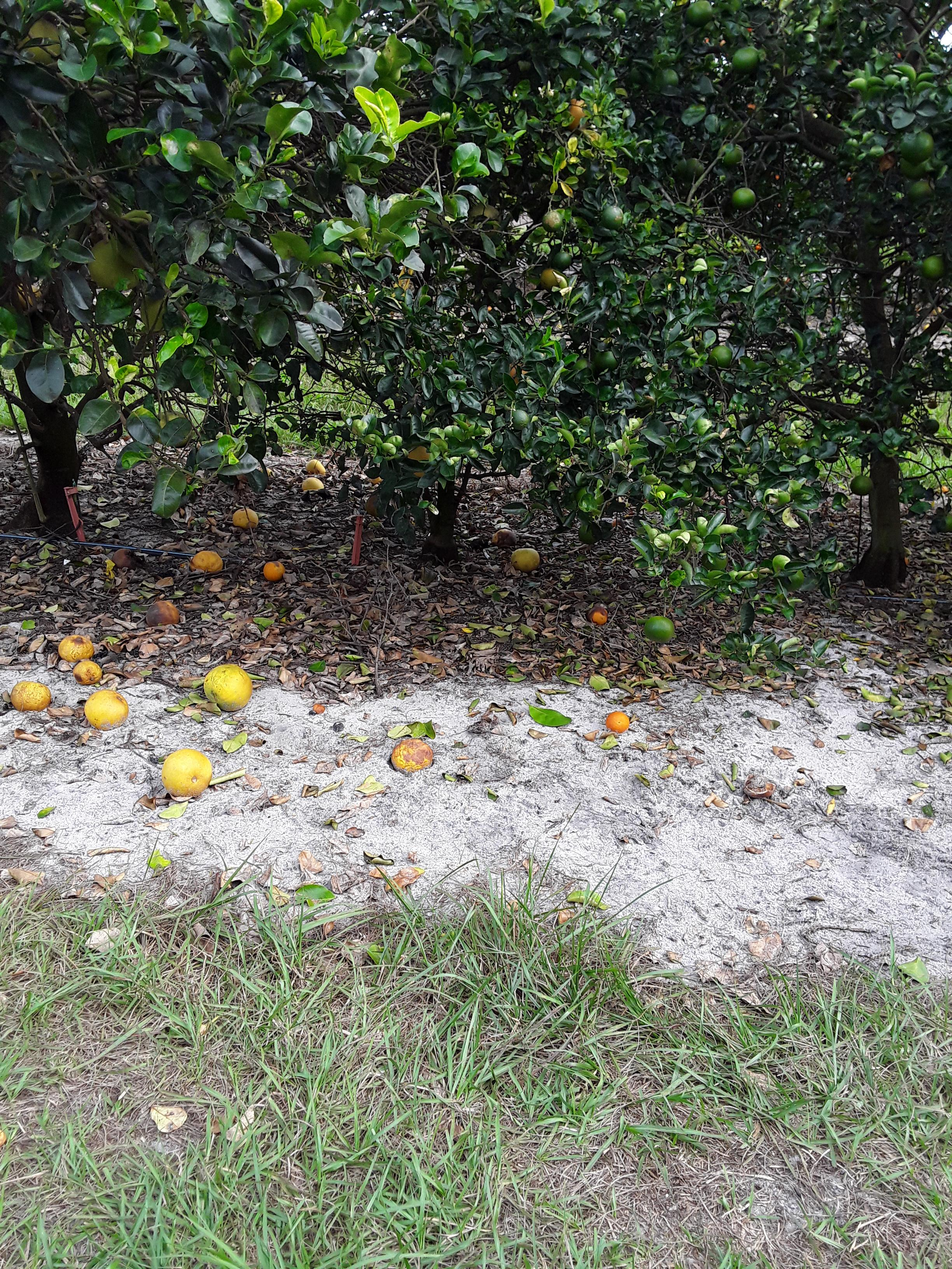fruit_on_ground: (84, 226, 146, 295), (19, 21, 68, 67), (900, 124, 937, 164), (642, 611, 679, 645), (682, 0, 715, 32), (731, 46, 764, 75), (917, 250, 947, 281), (469, 201, 504, 227), (537, 266, 571, 292), (593, 345, 618, 373), (510, 406, 534, 432), (541, 208, 565, 234), (707, 344, 733, 368), (550, 248, 575, 272), (732, 188, 757, 210), (602, 206, 623, 226)
fruit_on_tree: (162, 749, 213, 797), (204, 664, 252, 712), (84, 690, 130, 730), (390, 739, 434, 776), (11, 680, 51, 711), (59, 635, 94, 661), (145, 601, 178, 626), (73, 661, 102, 685), (511, 549, 539, 571), (192, 552, 222, 572), (112, 548, 138, 569), (233, 508, 259, 528), (263, 561, 285, 582), (607, 712, 629, 733), (494, 530, 515, 549), (589, 607, 607, 626), (306, 460, 326, 475), (301, 478, 324, 489)
